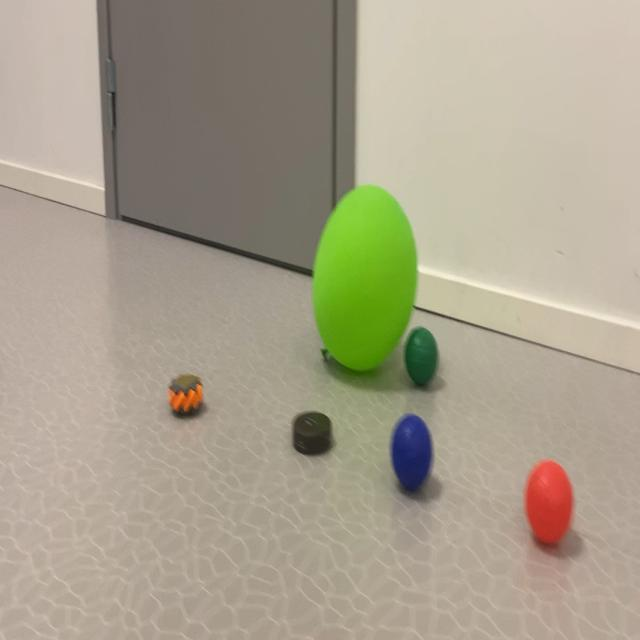7: (515, 438, 604, 612)
green ball: (376, 394, 444, 518)
red ball: (398, 318, 454, 394)
